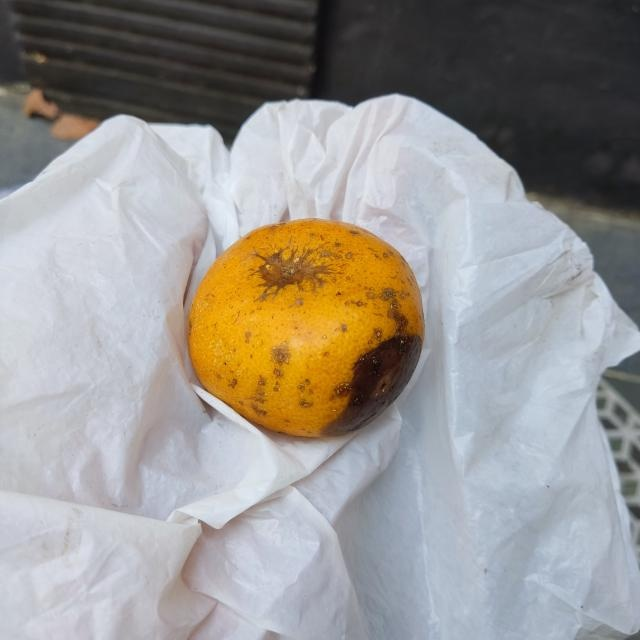agrume: (184, 216, 426, 439)
